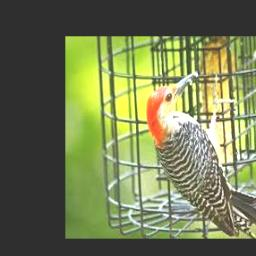Woodpecker: (146, 70, 256, 237)
